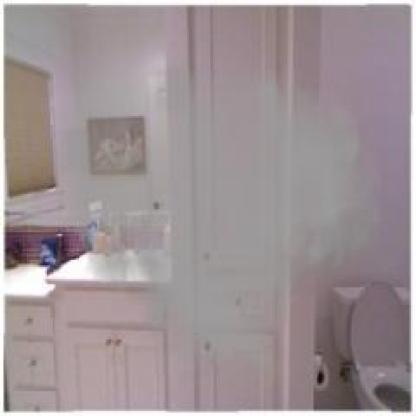Smoke: (50, 42, 387, 384)
